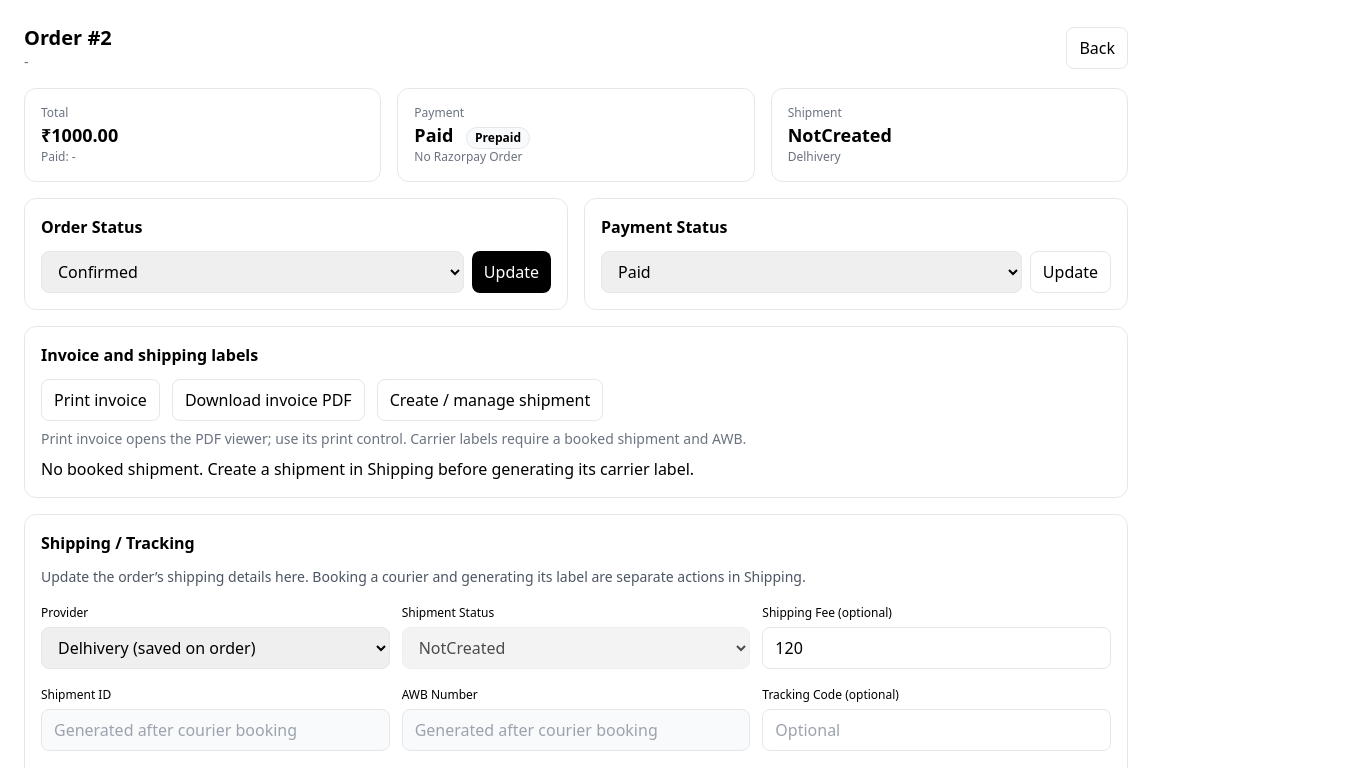
Test: order details offers enabled Shadowfax, excludes disabled providers, and saves its API enum
Select "Shadowfax 360" in the dropdown named "Shadowfax 360" below "Provider" at (215,648), box [41,627,390,669]
(page scrolled)
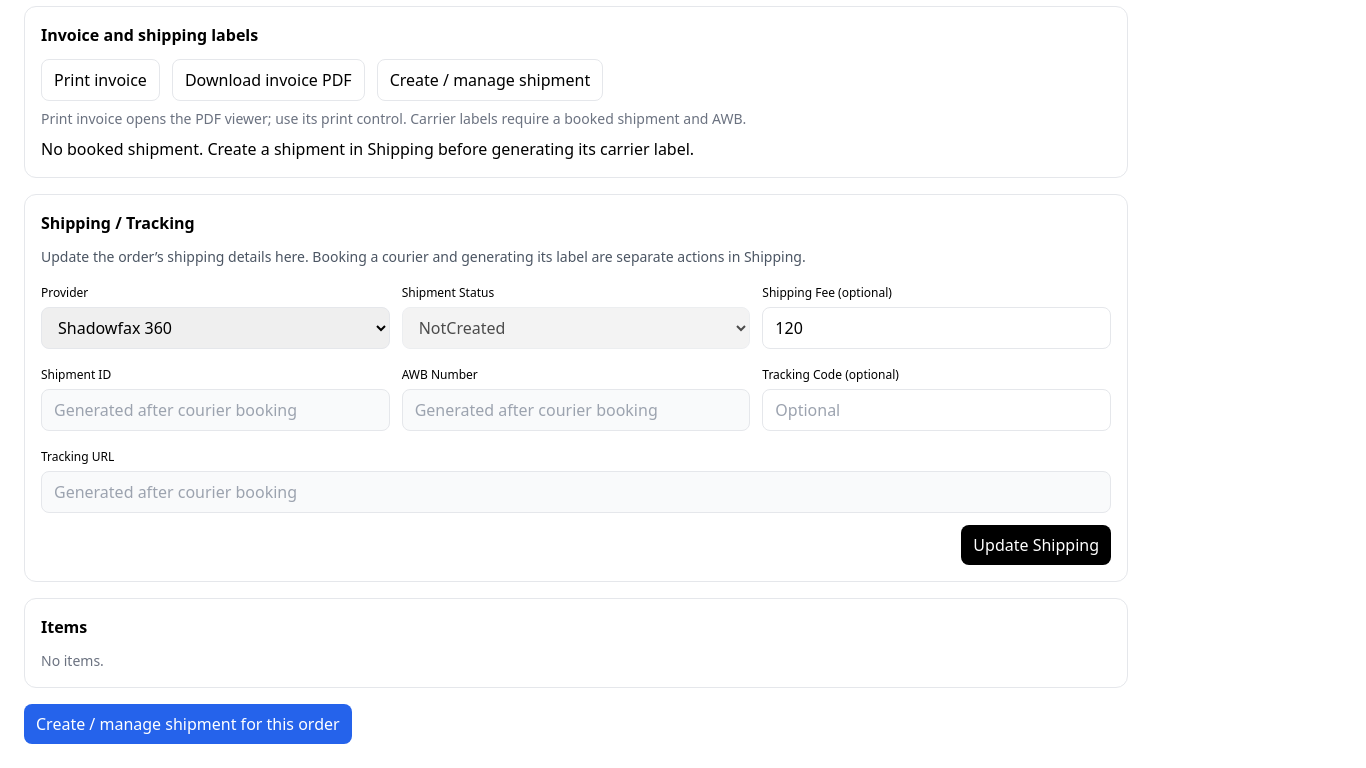
Click the button "Update Shipping" at (1036,545), box [961,525,1111,565]
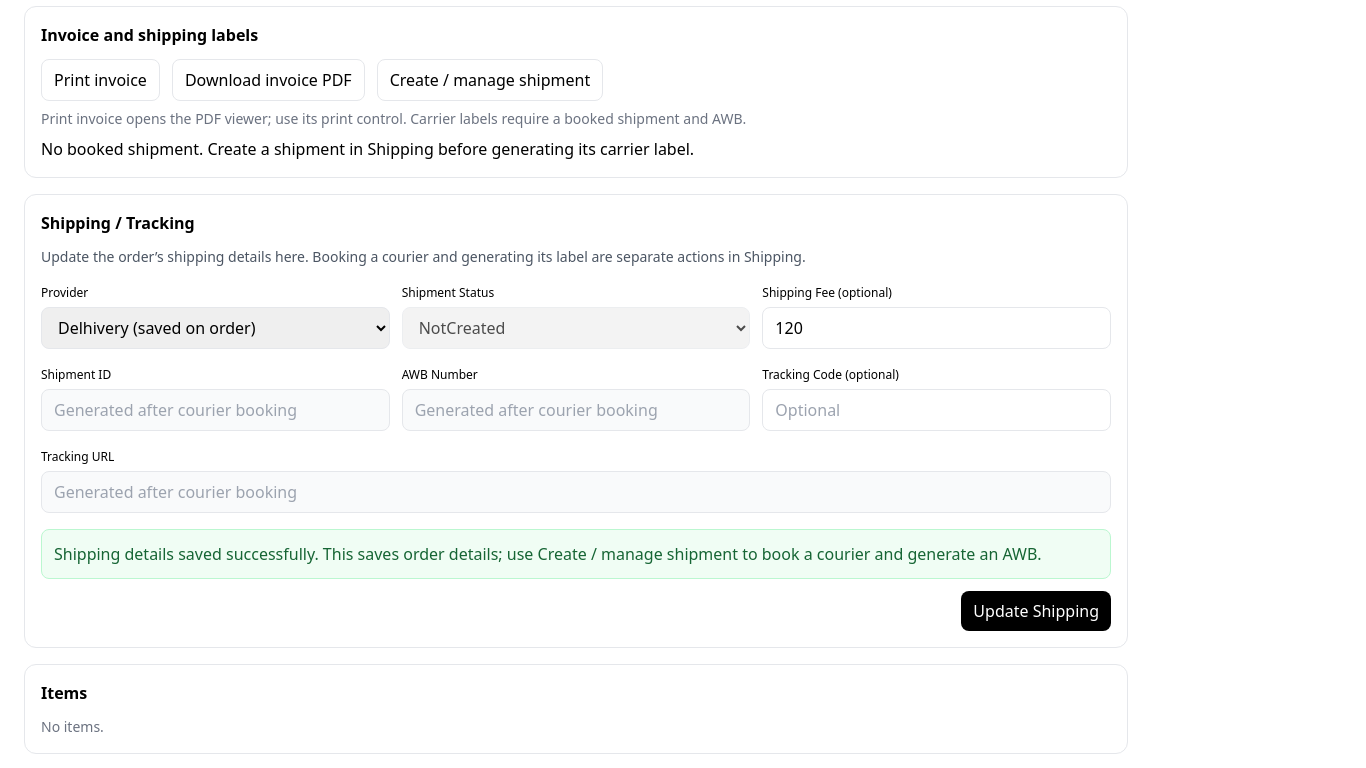
Expected: the button "Print invoice" is shown, [41,59,160,101]
Expected: the text "Shipping details saved successfully" is shown, [54,543,1042,565]
